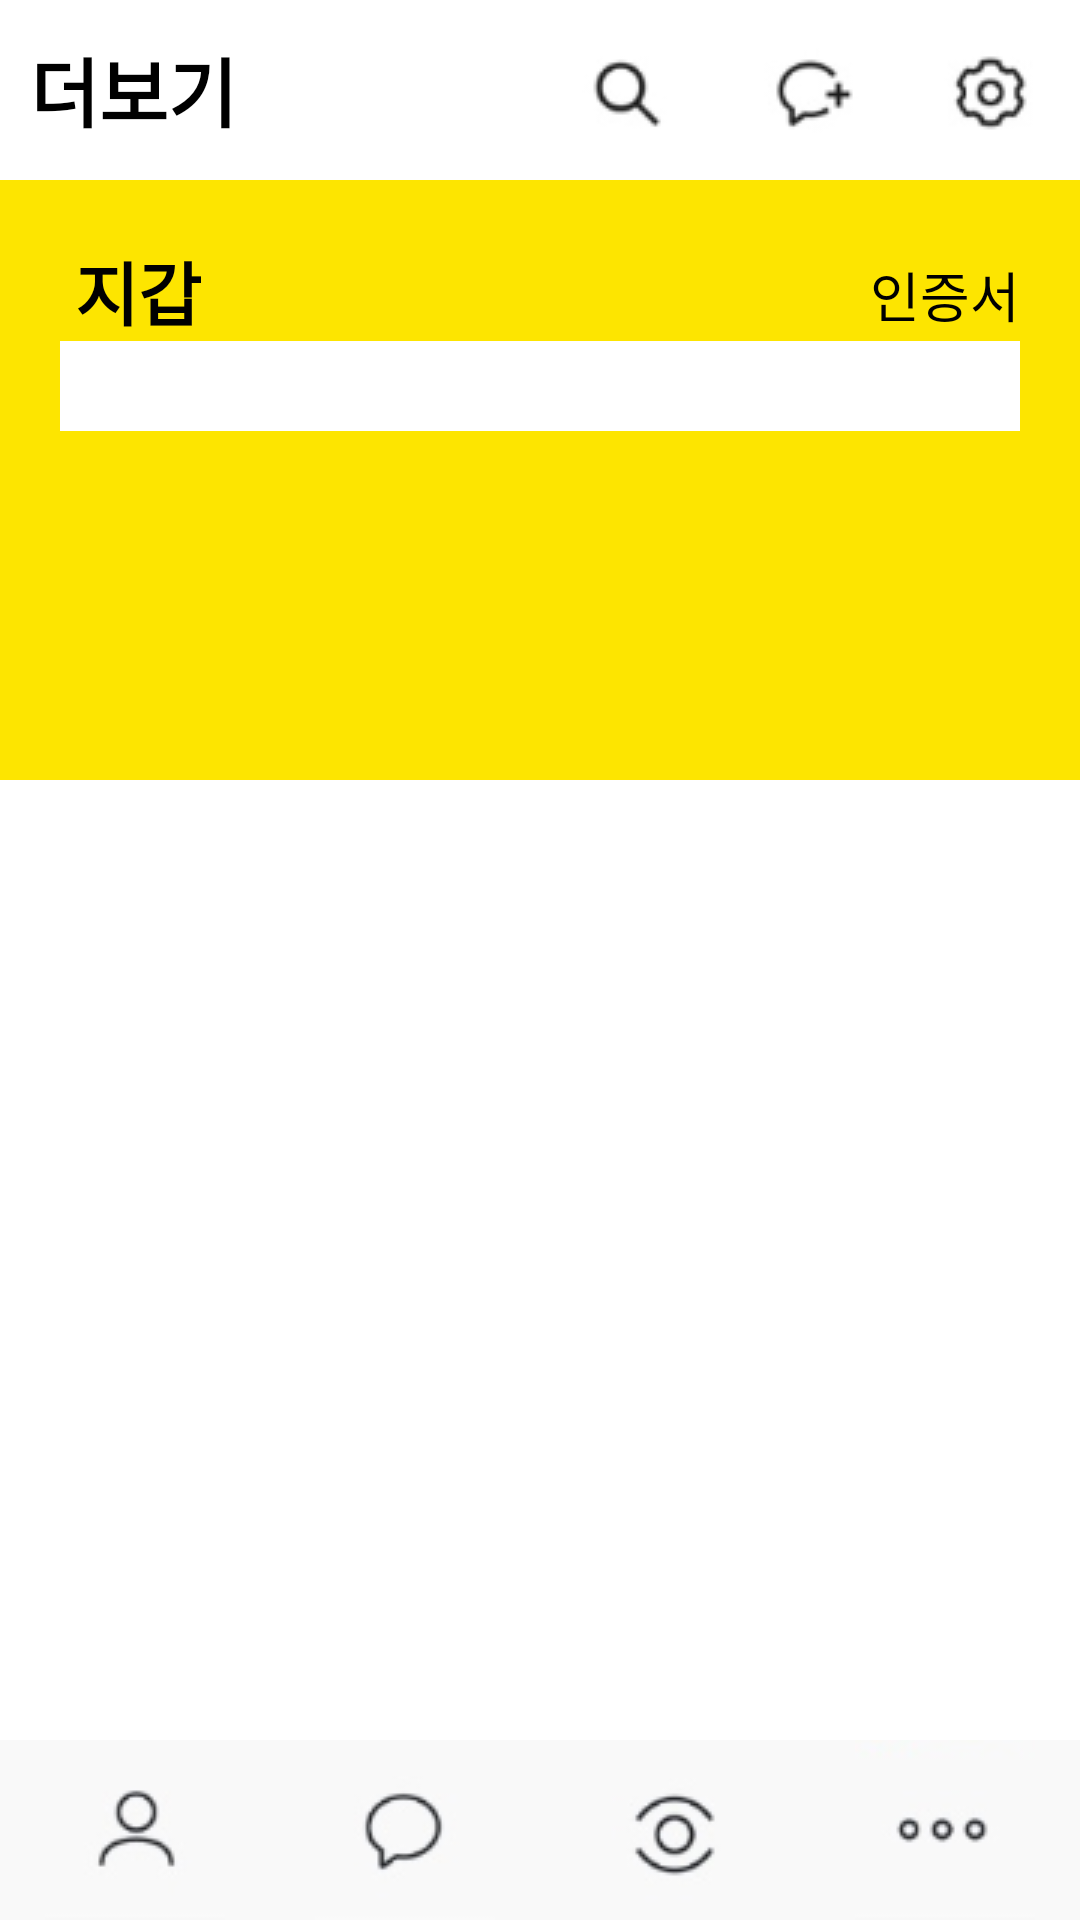

Icons on this 1080px x 1920px Android screen, each with its box as (x1, y1, x2, y2):
addchat: (776, 59, 852, 127)
chatlist: (365, 1793, 442, 1870)
etc: (897, 1817, 988, 1842)
find: (594, 61, 661, 127)
setting: (955, 56, 1026, 129)
